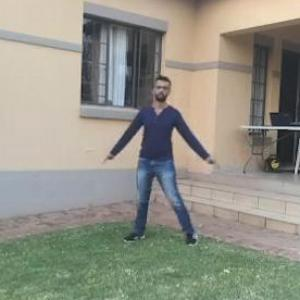land: (113, 82, 208, 232)
